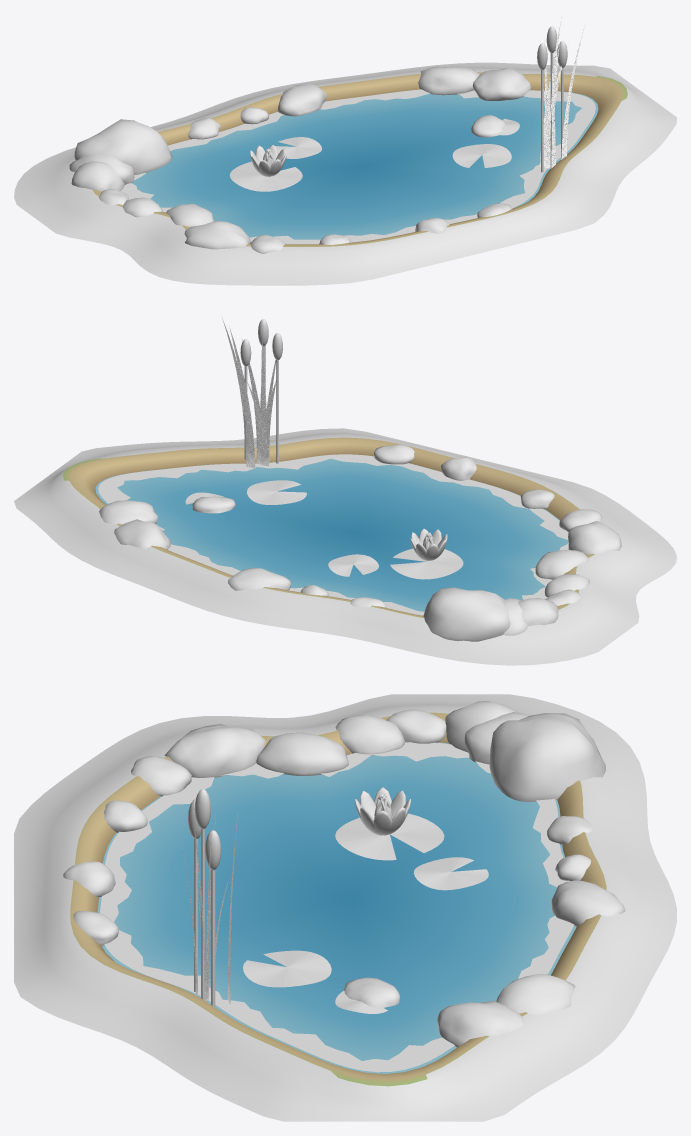
File: pond.glb
The picture shows the model from 3 angles, top to bottom: view 1: azimuth 30°, elevation 25°; view 2: azimuth 150°, elevation 25°; view 3: azimuth 270°, elevation 25°; orthographic projection. The views are drawn at different scales.
Visible parts, largest first — view 1: water, lawn, shore, foam, stone15, stone0, stone10, stone1, pad0, stone2, stone16, pad2 (+9 smaller); view 2: water, lawn, shore, foam, stone15, pad0, stone10, stone1, pad2, stone0, stone9, stone2 (+10 smaller); view 3: water, lawn, foam, shore, stone15, stone10, stone9, pad0, stone0, pad2, stone1, stone2 (+14 smaller).
Part boxes in pixels (<box>): water: <box>132,91,598,239</box>; lawn: <box>14,62,676,285</box>; shore: <box>92,72,627,246</box>; foam: <box>120,89,595,244</box>; stone15: <box>74,119,172,175</box>; stone0: <box>472,68,530,100</box>; stone10: <box>184,221,250,249</box>; stone1: <box>418,66,479,95</box>; pad0: <box>230,161,302,191</box>; stone2: <box>277,83,326,116</box>; stone16: <box>71,161,124,191</box>; pad2: <box>452,144,511,167</box>; water: <box>95,454,568,611</box>; lawn: <box>14,428,676,665</box>; shore: <box>63,437,594,618</box>; foam: <box>98,454,568,615</box>; stone15: <box>423,587,510,641</box>; pad0: <box>390,548,463,579</box>; stone10: <box>568,521,621,554</box>; stone1: <box>114,519,171,549</box>; pad2: <box>247,480,306,504</box>; stone0: <box>99,500,157,524</box>; stone9: <box>535,550,588,579</box>; stone2: <box>228,568,291,590</box>; water: <box>97,742,576,1073</box>; lawn: <box>14,694,676,1121</box>; foam: <box>100,742,573,1072</box>; shore: <box>70,712,606,1086</box>; stone15: <box>489,713,605,801</box>; stone10: <box>164,724,265,777</box>; stone9: <box>256,732,348,775</box>; pad0: <box>335,813,444,860</box>; stone0: <box>437,1001,523,1047</box>; pad2: <box>243,950,331,987</box>; stone1: <box>496,974,575,1015</box>; stone2: <box>551,880,625,926</box>.
Bounding box in the file's own units: 2.96 × 0.735 × 1.94.
